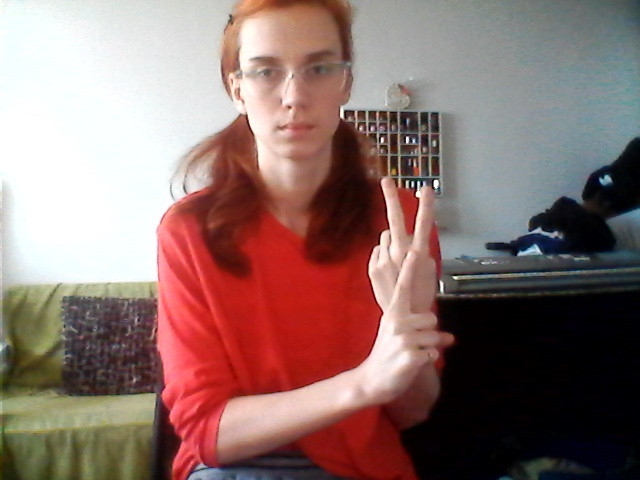y: (354, 176, 467, 403)
